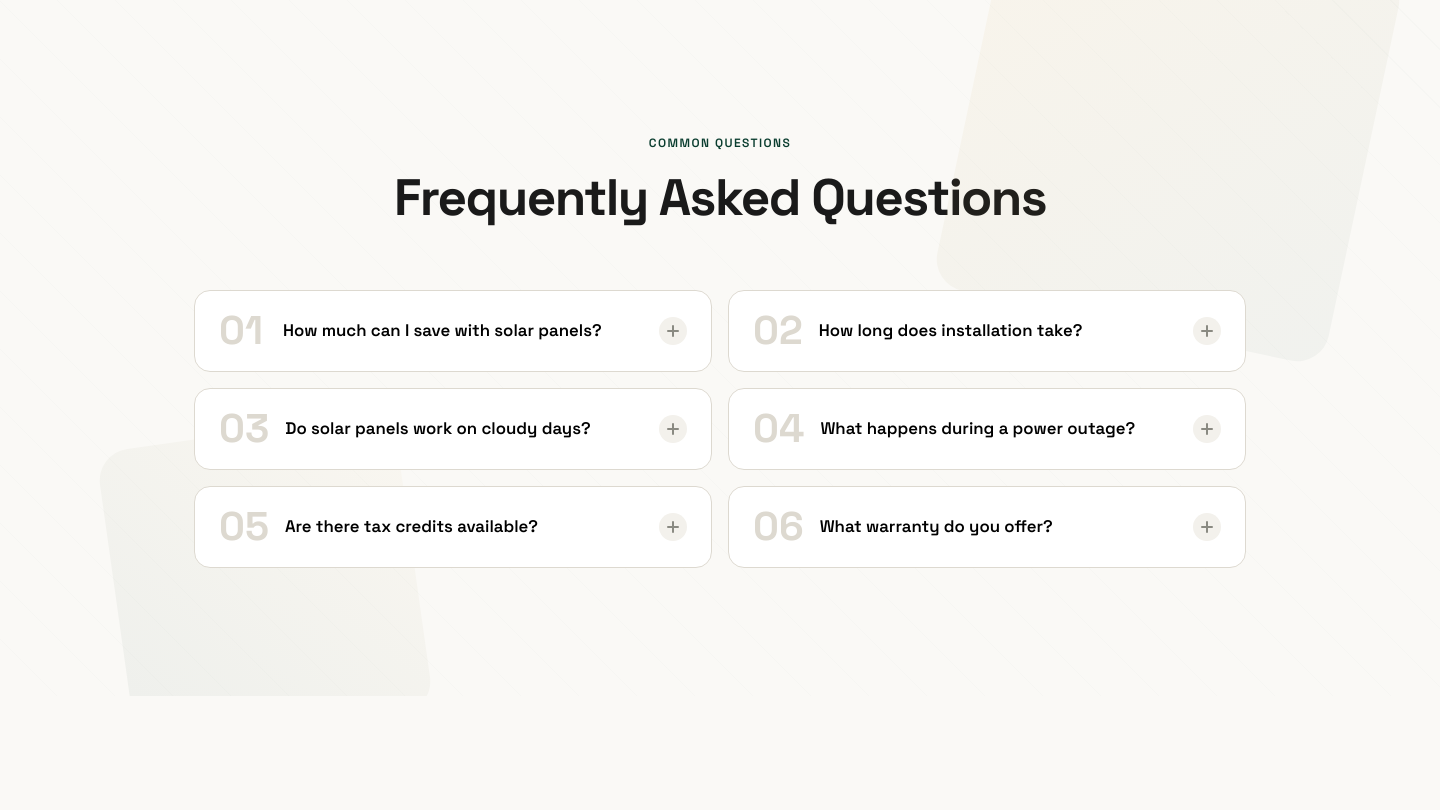
FaqSection › expands answer on click
Click the text "How much can I save with solar panels?" at [463, 331], box top-left (283, 317), bottom-right (643, 345)
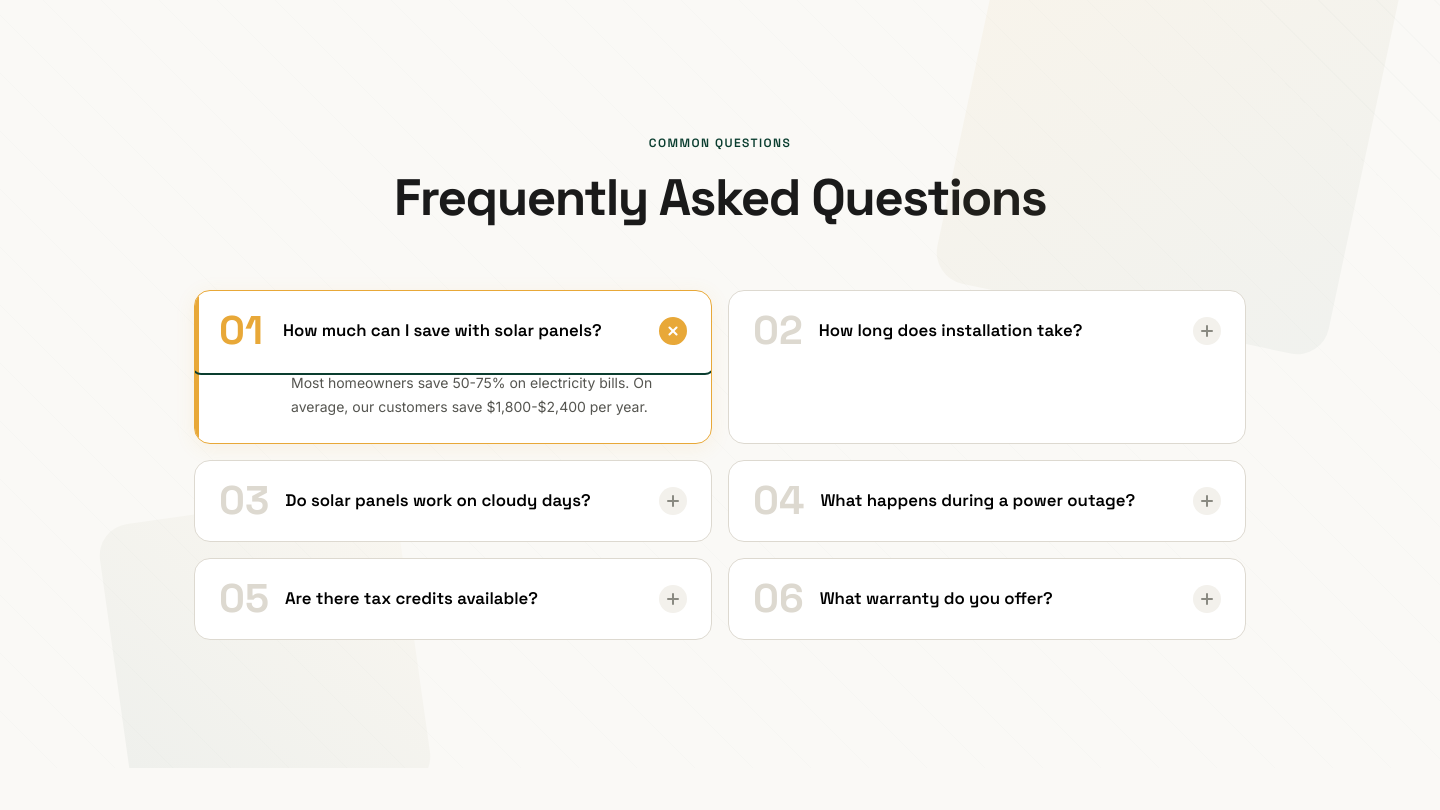
expect the text "Most homeowners save 50-75% on electricity bills. On average, our customers save $1,800-$2,400 per year." is shown: met, box top-left (291, 374), bottom-right (652, 415)
